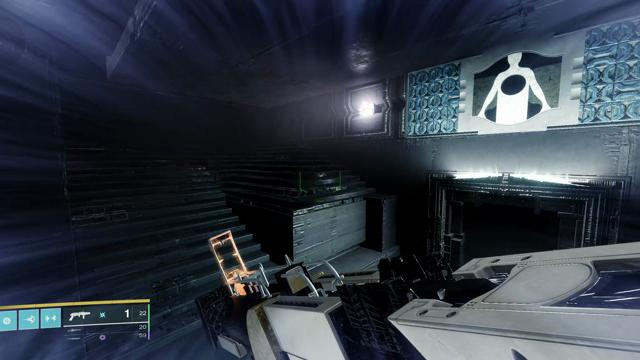grief: (472, 51, 562, 125)
